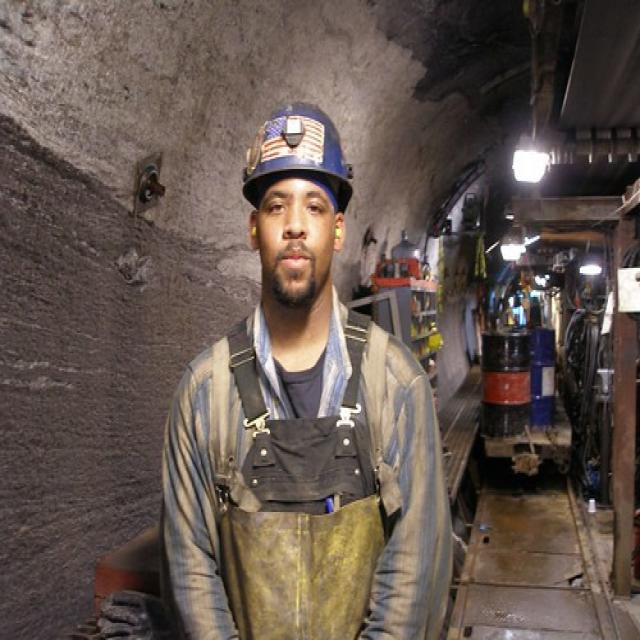Safety-Helmet: (233, 95, 363, 214)
